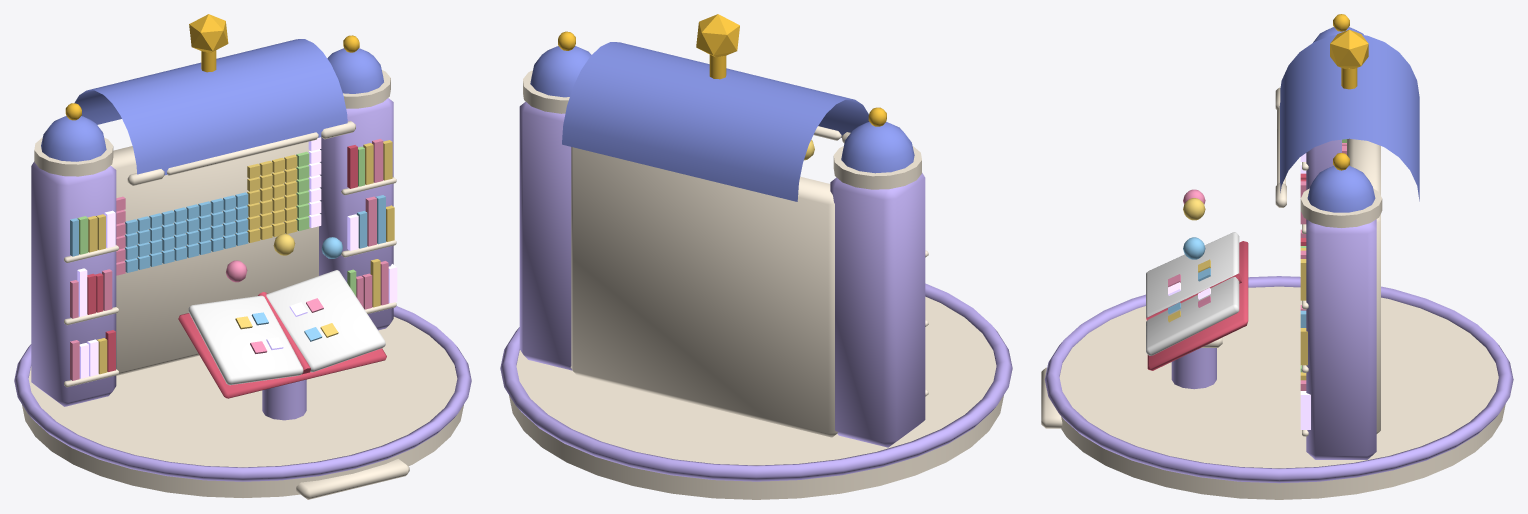
The model's file is codex.glb.
The picture shows the model from 3 angles, left to right: view 1: azimuth 30°, elevation 25°; view 2: azimuth 150°, elevation 25°; view 3: azimuth 270°, elevation 25°; orthographic projection. The views are drawn at different scales.
Parts seen in each view (by area): view 1: codex; view 2: codex; view 3: codex.
Part boxes in pixels (x1,y1,x2,y2): codex: (14,14,471,499); codex: (500,14,1012,499); codex: (1041,14,1513,499).
Bounding box in the file's own units: 4.14 × 3.65 × 4.17.
